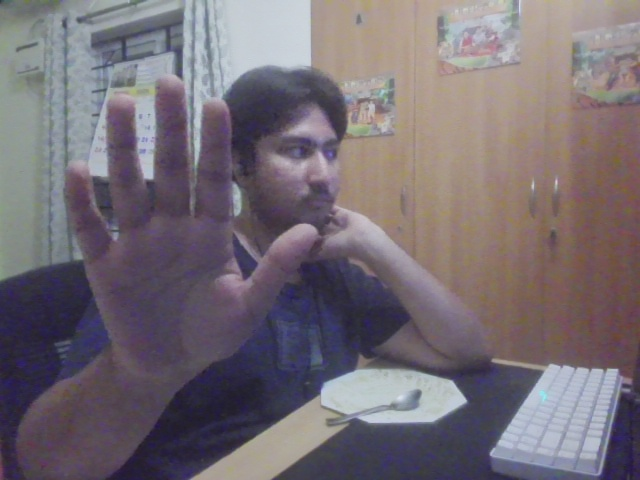hello: (63, 74, 321, 376)
